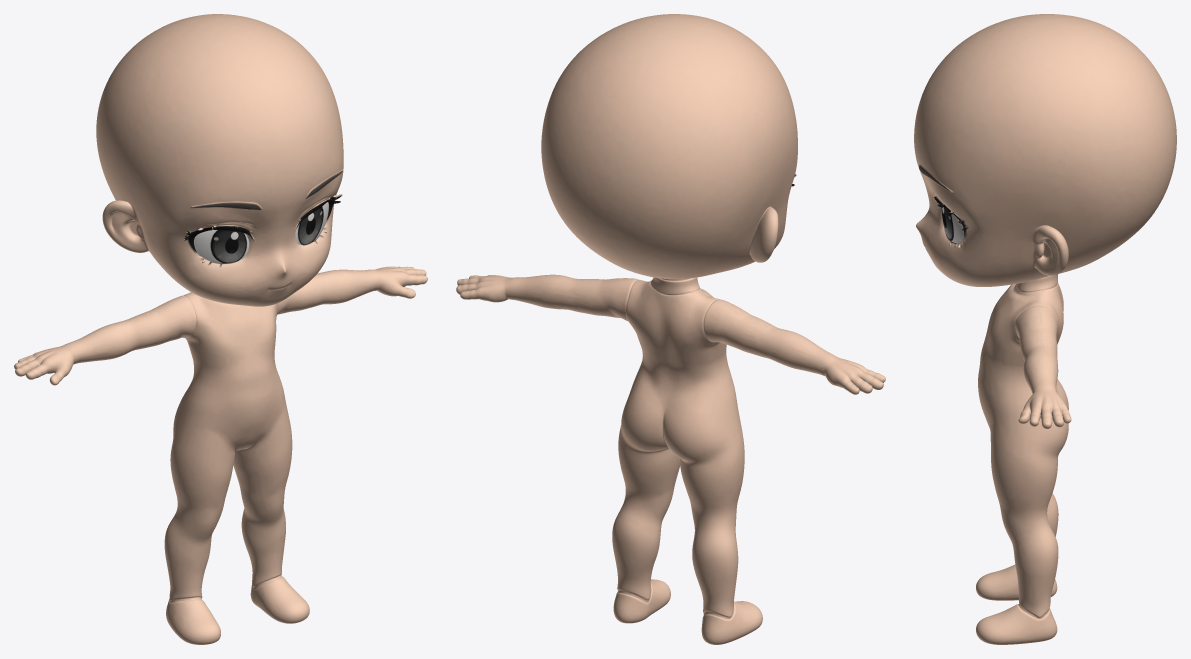
The model's file is 빡빡이 캐릭터.glb.
3 views of the same model, side by side, from view 1: azimuth 30°, elevation 25°; view 2: azimuth 150°, elevation 25°; view 3: azimuth 270°, elevation 25° (orthographic). The views are drawn at different scales.
Size of the model in its own units: 1.4 by 1.9 by 0.7684.
Materials: 1 (1 with a texture image).
